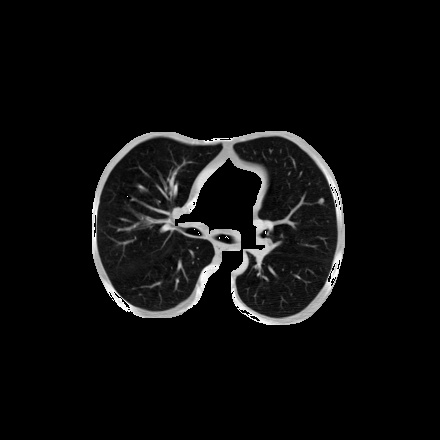PN: (318, 197, 324, 203)
